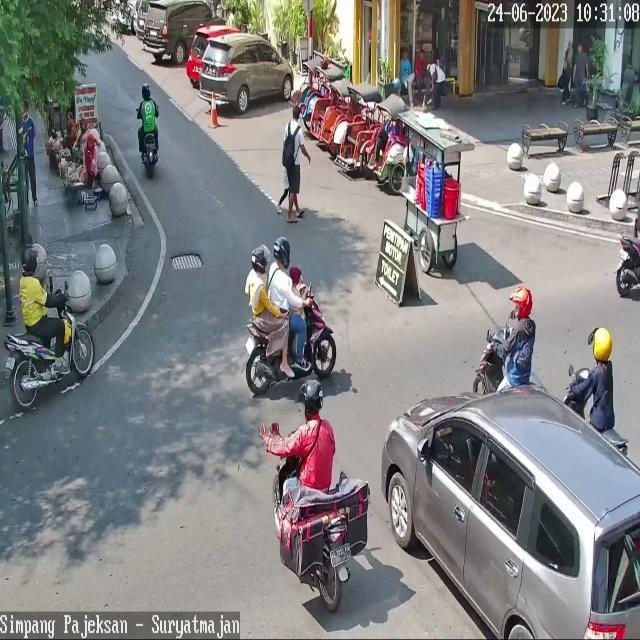bus: (274, 430, 352, 614), (5, 289, 96, 412), (246, 284, 338, 394), (565, 368, 629, 461), (473, 322, 511, 392), (615, 236, 640, 296), (140, 131, 158, 175)
motorcycle: (381, 386, 640, 640), (200, 33, 294, 113), (144, 0, 225, 64), (186, 24, 243, 80)
